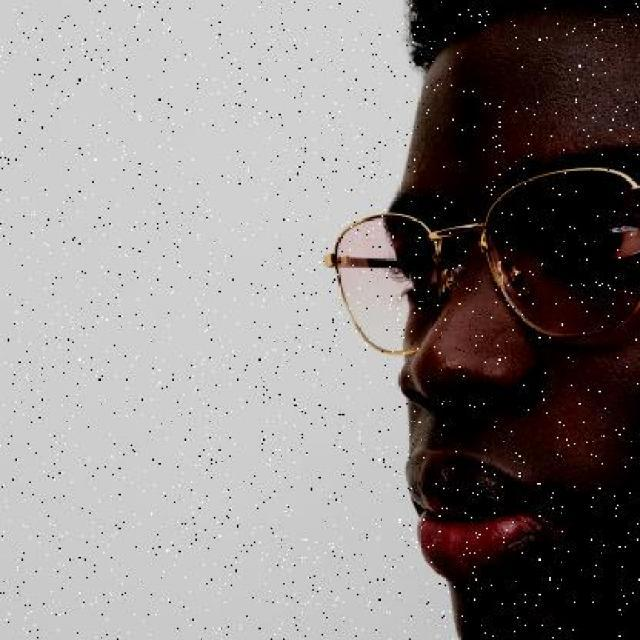sunglasses: (321, 158, 640, 362)
